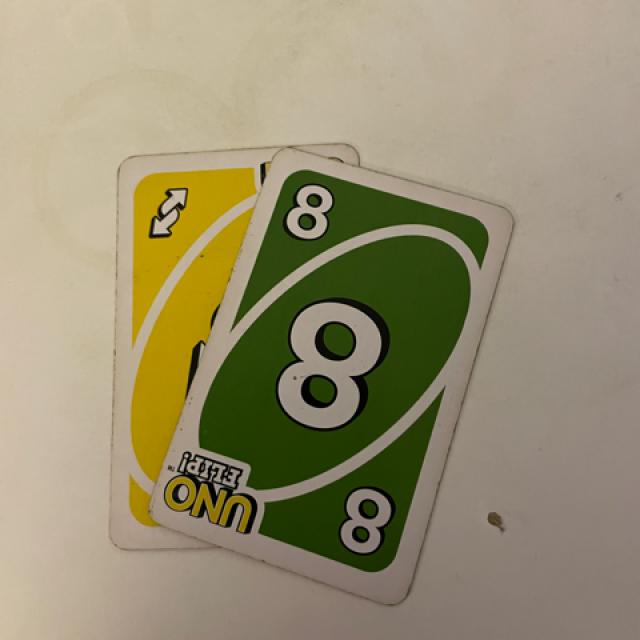lgreen-8: (274, 173, 346, 257)
lyellowrevers-20: (131, 168, 201, 257)
